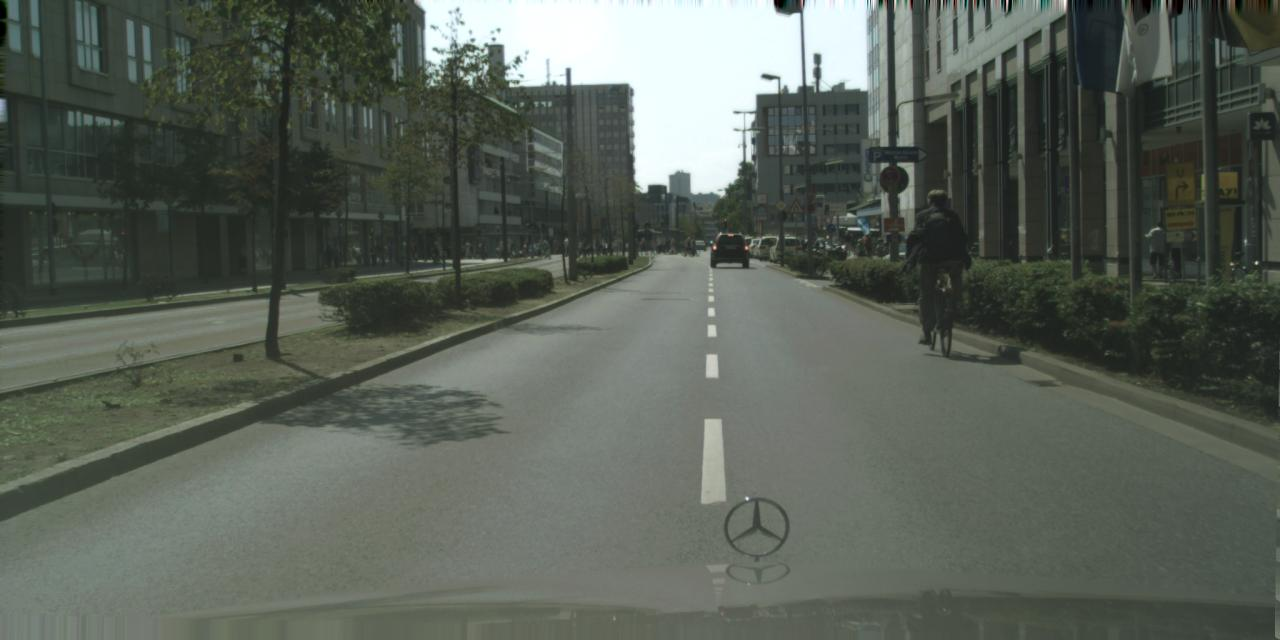ped: (912, 188, 967, 324), (634, 234, 701, 257), (1162, 220, 1187, 281), (1148, 220, 1171, 278), (508, 238, 562, 260), (465, 236, 489, 259), (236, 243, 248, 274), (326, 244, 340, 268), (383, 242, 395, 268), (593, 235, 609, 254), (430, 240, 442, 264), (372, 242, 382, 268), (577, 238, 589, 258), (409, 240, 418, 264), (612, 236, 622, 254), (401, 241, 405, 264), (564, 237, 568, 257), (625, 238, 627, 256), (500, 249, 502, 254)
